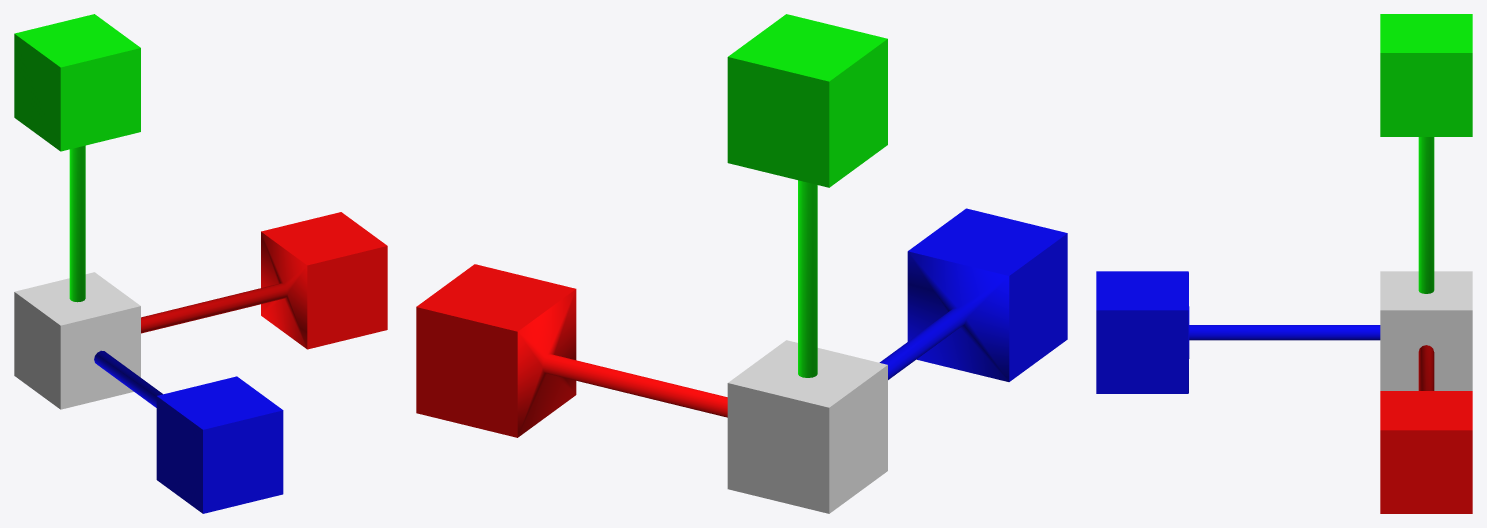
The model's file is gizmo_scale.glb.
The picture shows the model from 3 angles, left to right: view 1: azimuth 30°, elevation 25°; view 2: azimuth 150°, elevation 25°; view 3: azimuth 270°, elevation 25°; orthographic projection. The views are drawn at different scales.
Parts seen in each view (by area): view 1: scale_axis_y, scale_axis_x, scale_axis_z, scale_axis_all; view 2: scale_axis_y, scale_axis_x, scale_axis_z, scale_axis_all; view 3: scale_axis_z, scale_axis_y, scale_axis_x, scale_axis_all.
Boxes of the visible parts, x1,y1,x2,y2 form: scale_axis_y: (14, 14, 140, 302); scale_axis_x: (141, 212, 387, 349); scale_axis_z: (94, 350, 283, 513); scale_axis_all: (14, 272, 140, 409); scale_axis_y: (727, 14, 887, 377); scale_axis_x: (416, 264, 727, 437); scale_axis_z: (879, 208, 1067, 381); scale_axis_all: (727, 340, 887, 513); scale_axis_z: (1096, 271, 1380, 393); scale_axis_y: (1380, 14, 1472, 293); scale_axis_x: (1380, 345, 1472, 513); scale_axis_all: (1380, 271, 1472, 390).
Size of the model in its own units: 1.14 by 1.14 by 1.14.
